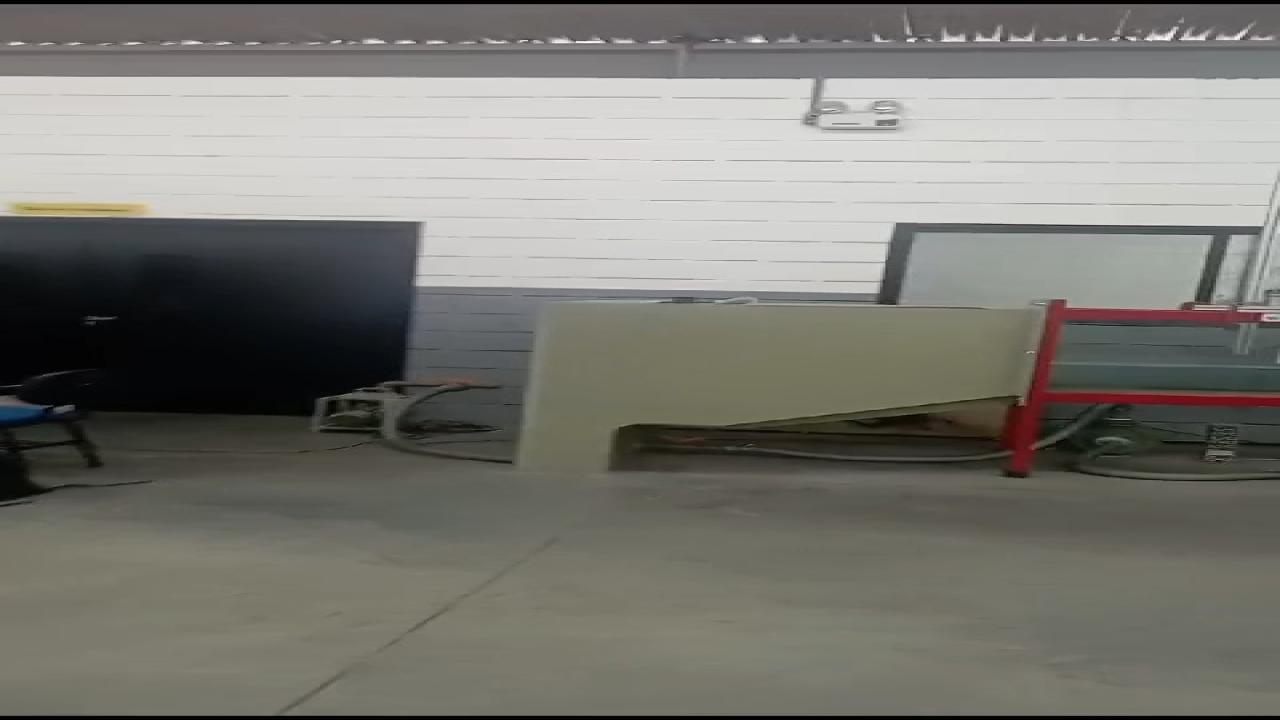Cube: (800, 98, 904, 131)
